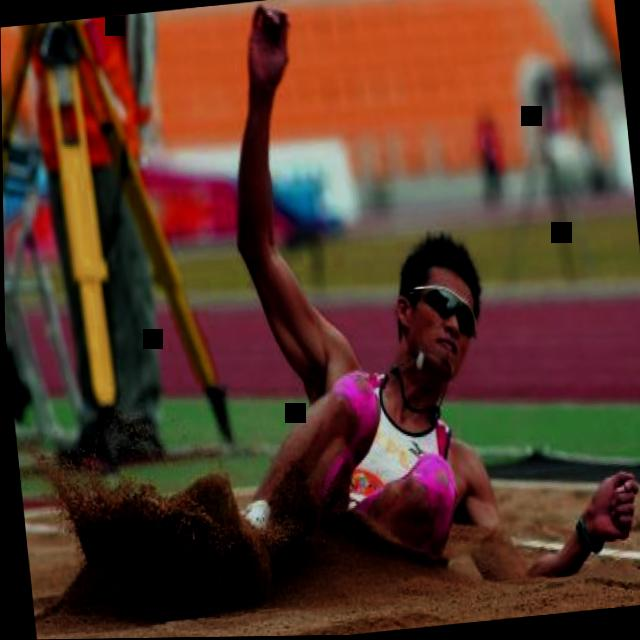Fall-Detected: (141, 0, 640, 638)
